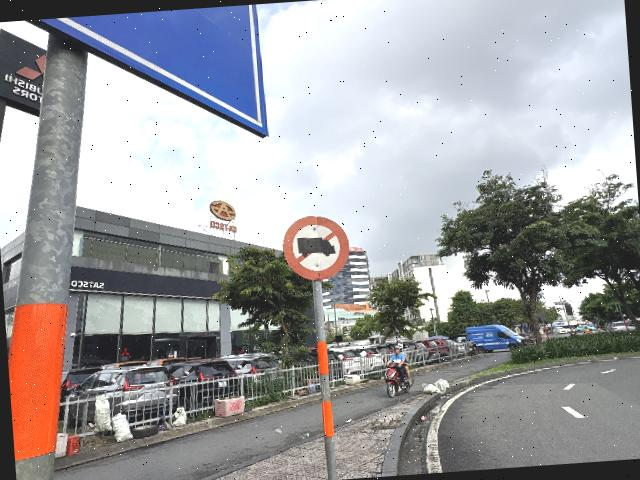cam-xe-tai: (280, 214, 352, 284)
